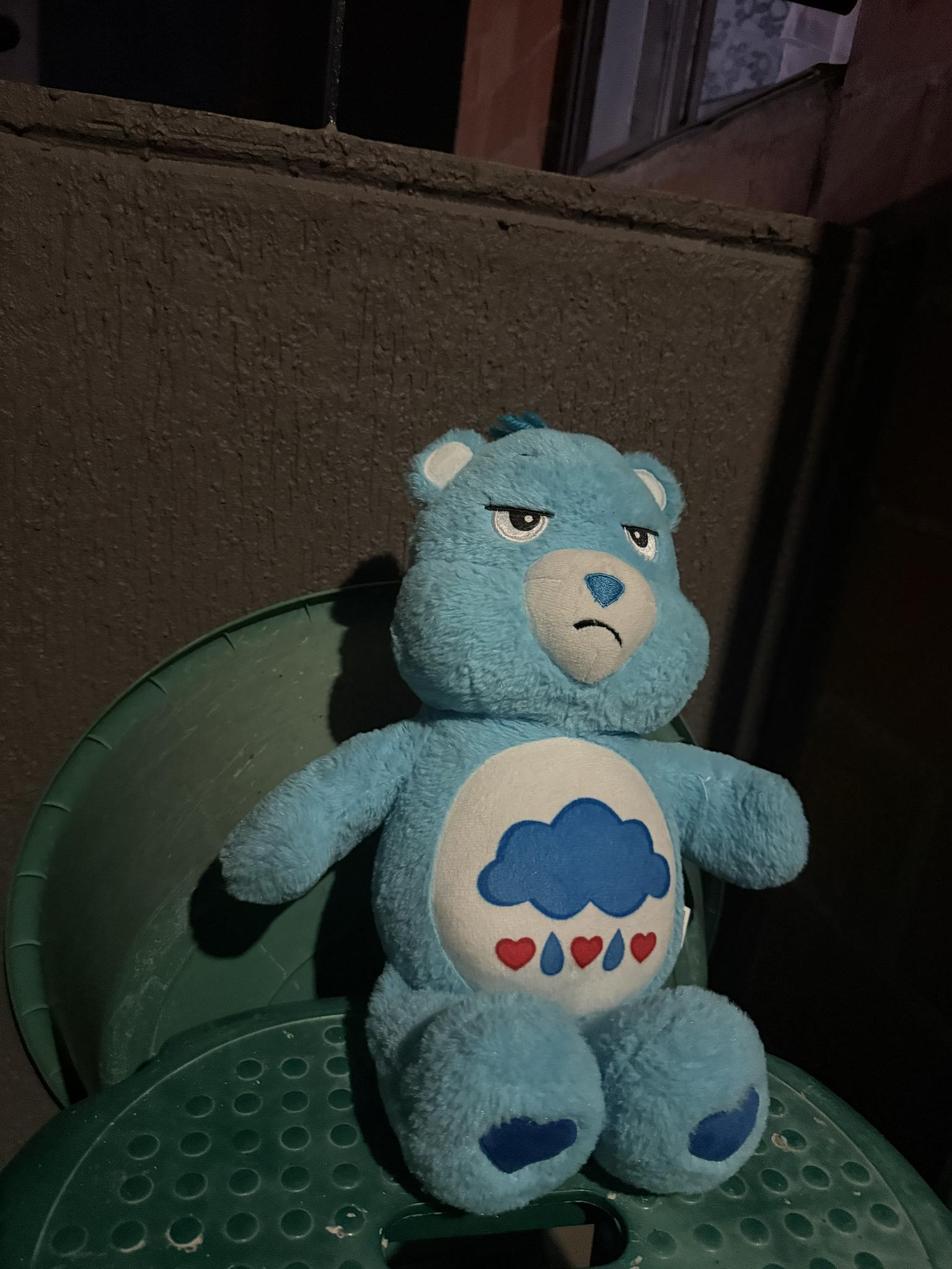peluche_Juan Jose: (204, 413, 824, 1224)
